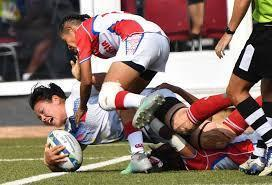Fall-Detected: (25, 73, 270, 167)
